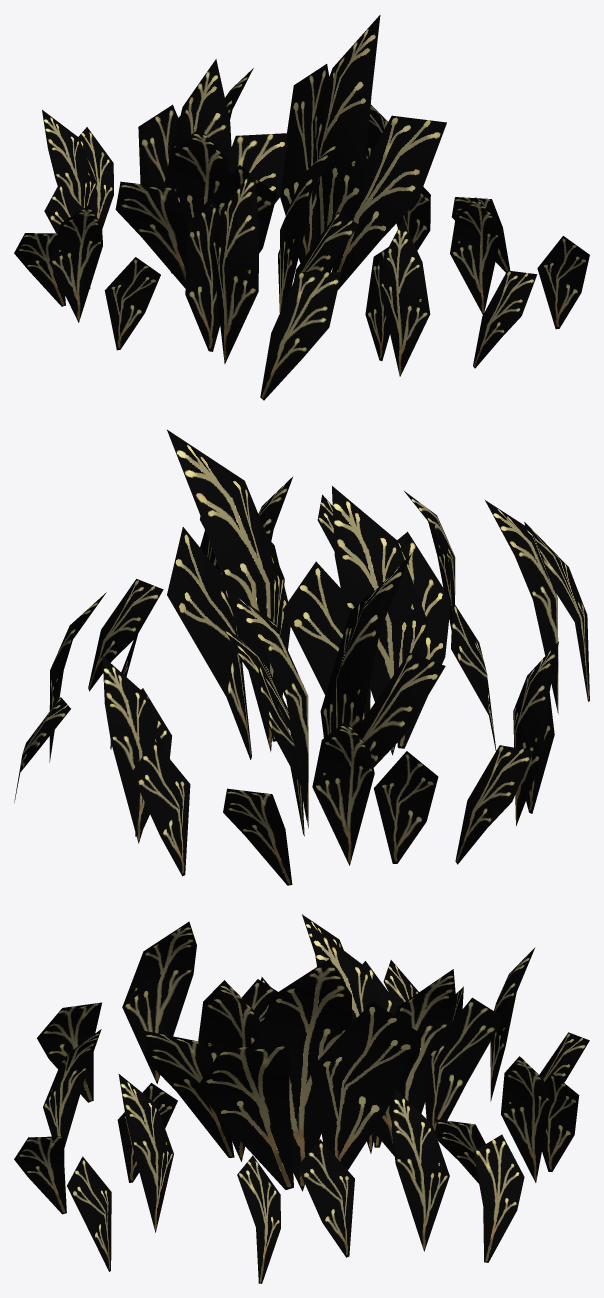
File: SM_Grass_Small.fbx
3 renders of one model, top to bottom at view 1: azimuth 30°, elevation 25°; view 2: azimuth 150°, elevation 25°; view 3: azimuth 270°, elevation 25°, orthographic. The views are drawn at different scales.
Parts seen in each view (by area): view 1: SM_Grass_Small_LOD0; view 2: SM_Grass_Small_LOD0; view 3: SM_Grass_Small_LOD0.
Boxes of the visible parts, bbox=[...] form: SM_Grass_Small_LOD0: bbox=[14, 15, 589, 400]; SM_Grass_Small_LOD0: bbox=[14, 429, 589, 885]; SM_Grass_Small_LOD0: bbox=[14, 914, 589, 1283].
Bounding box in the file's own units: 98.08 × 108 × 58.01.
